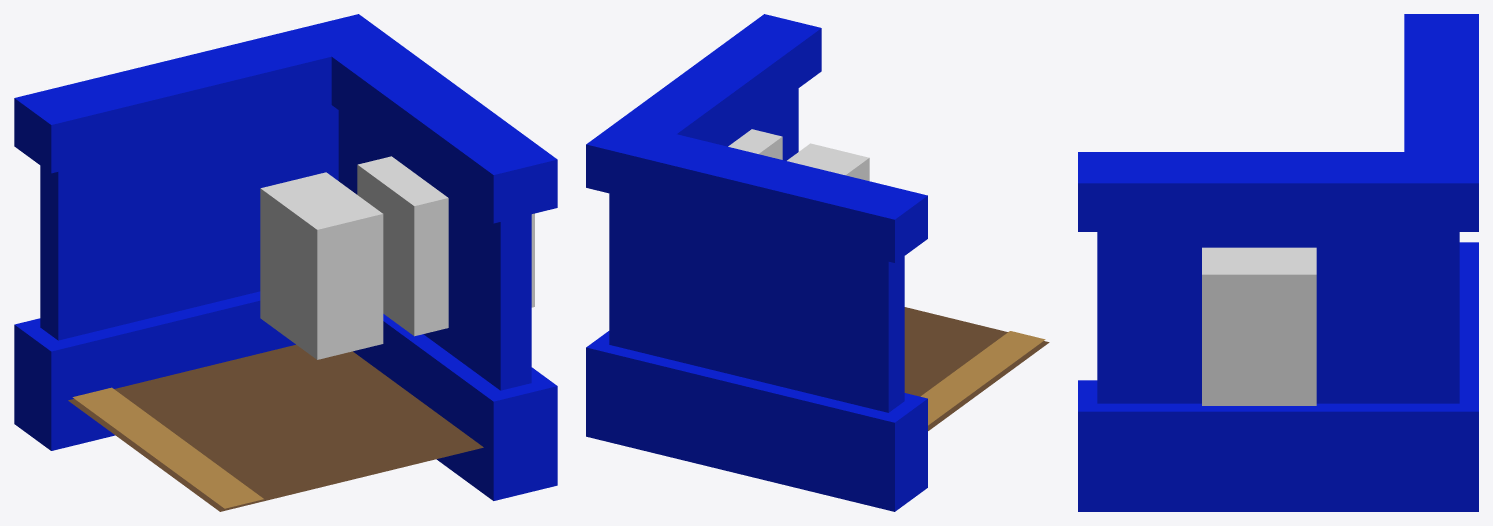
File: firstRoom.glb
3 renders of one model, left to right at view 1: azimuth 30°, elevation 25°; view 2: azimuth 150°, elevation 25°; view 3: azimuth 270°, elevation 25°, orthographic. The views are drawn at different scales.
Visible parts, largest first — view 1: Cube, Plane, Cube.001, Plane.001; view 2: Cube, Plane, Plane.001, Cube.001; view 3: Cube, Cube.001.
Part boxes in pixels (<box>): Cube: <box>14,14,557,500</box>; Plane: <box>68,344,483,511</box>; Cube.001: <box>260,156,534,359</box>; Plane.001: <box>72,387,263,508</box>; Cube: <box>586,14,927,511</box>; Plane: <box>904,307,1049,430</box>; Plane.001: <box>920,331,1045,425</box>; Cube.001: <box>728,129,869,181</box>; Cube: <box>1078,14,1478,511</box>; Cube.001: <box>1202,247,1316,405</box>.
Size of the model in its own units: 2.46 by 2 by 2.21.
